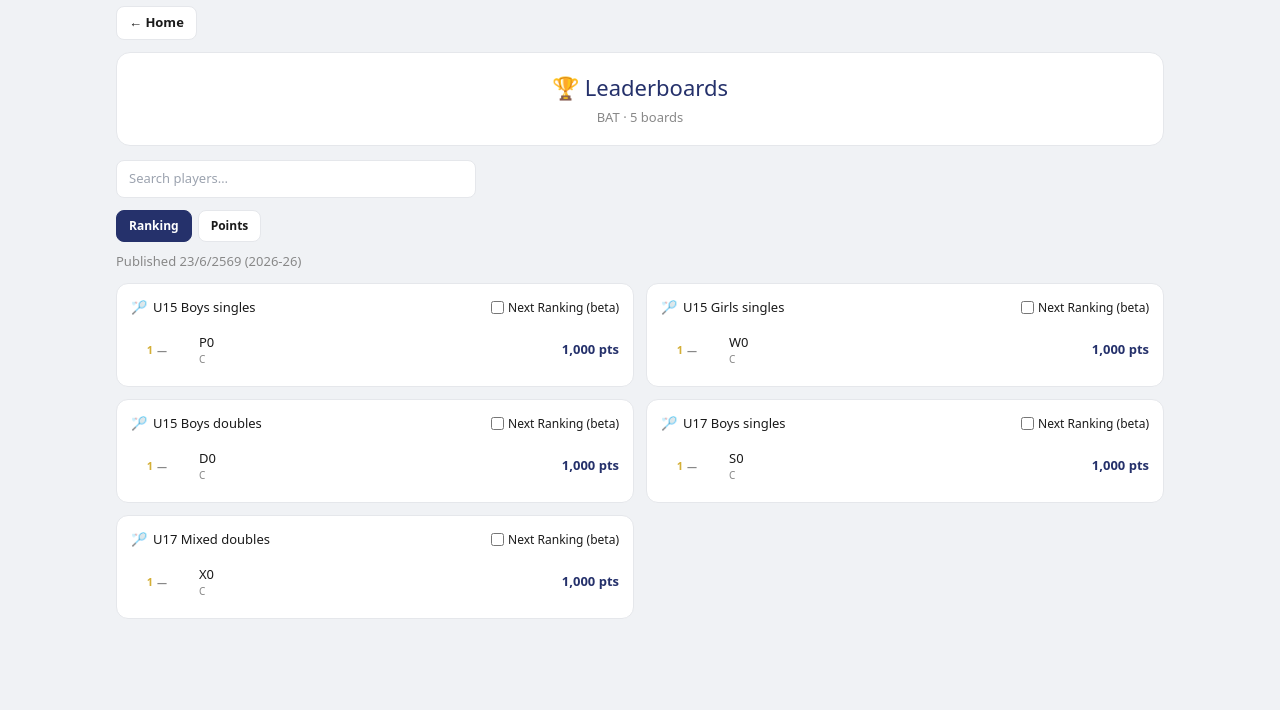
Test: Next Ranking (beta) checkbox › fetches the per-board event and shows only the top 30 rows
Click the checkbox labelled "Next Ranking (beta)" in the row of "U15 Boys singles": (498, 308) [491,301,504,314]
(page scrolled)
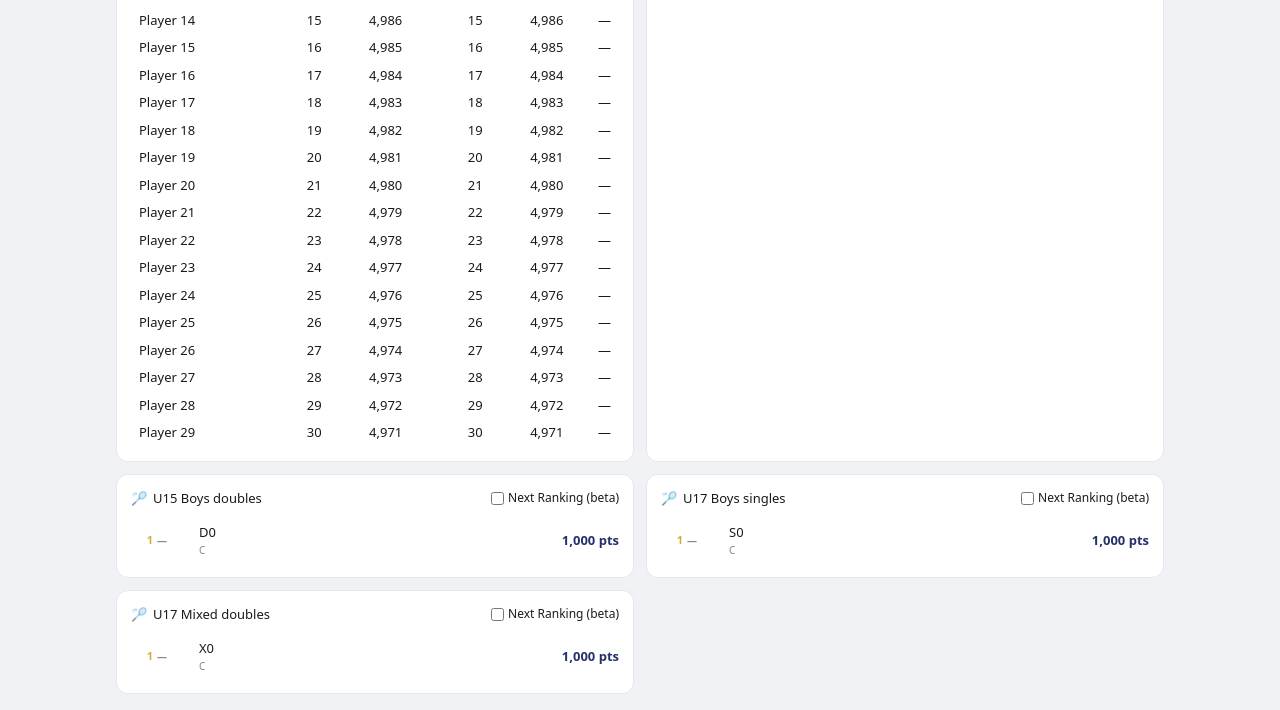
Check: the text "Player 29" is shown, box [131,419,249,446]
